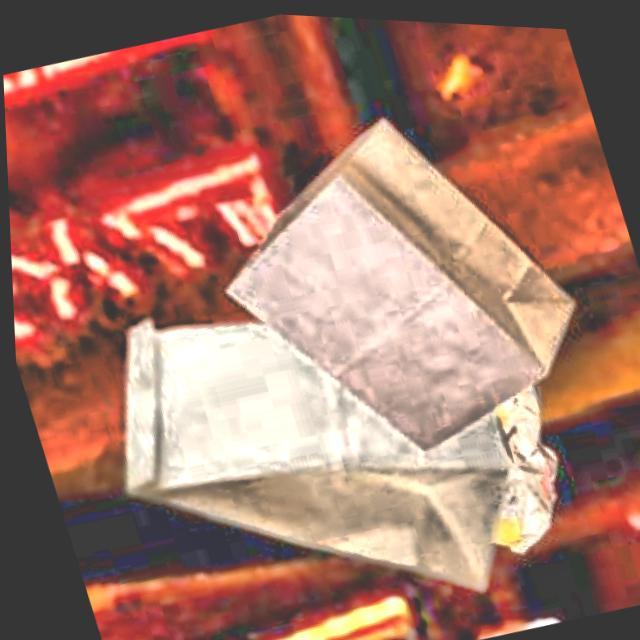Paper-bag: (61, 212, 596, 640), (196, 77, 602, 489)
